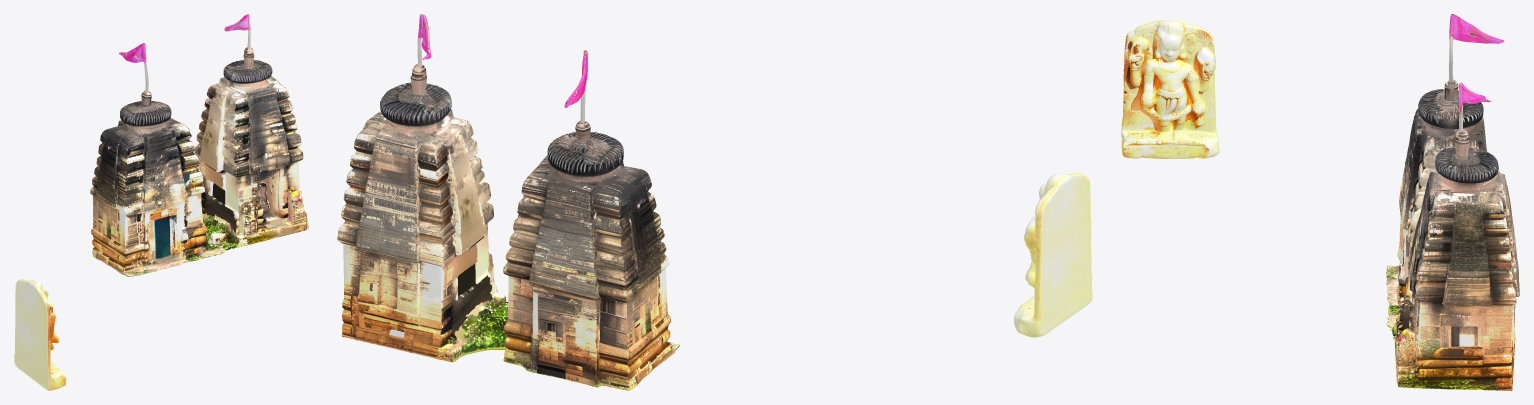
Rendered from site1.gltf.
The picture shows the model from 3 angles, left to right: view 1: azimuth 30°, elevation 25°; view 2: azimuth 150°, elevation 25°; view 3: azimuth 270°, elevation 25°; orthographic projection. The views are drawn at different scales.
Visible parts, largest first — view 1: textured_mesh, textured_mesh.001; view 2: textured_mesh, textured_mesh.001; view 3: textured_mesh, textured_mesh.001.
Part boxes in pixels (<box>): textured_mesh: <box>90,14,308,277</box>; textured_mesh.001: <box>14,279,66,390</box>; textured_mesh: <box>337,14,679,390</box>; textured_mesh.001: <box>1014,173,1092,337</box>; textured_mesh: <box>1386,14,1519,390</box>; textured_mesh.001: <box>1121,20,1219,158</box>.
Bounding box in the file's own units: 5.28 × 2.91 × 3.69.
2 materials, 2 textured.
